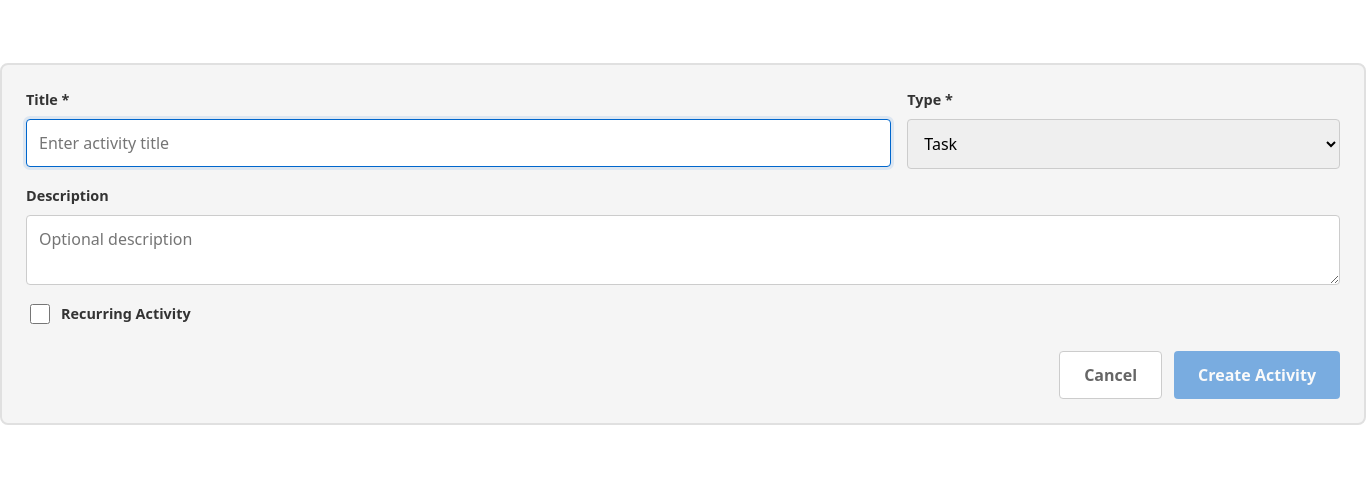
ActivityEditor › shows parent activity dropdown for Epics when Projects exist
The image size is (1366, 489).
Expected: the field labelled "Parent Activity" is not shown
Note: Switch to Epic type — should show parent dropdown with project
Select "Epic" in the dropdown labelled "Type *" at (1124, 144), box [907,119,1340,169]
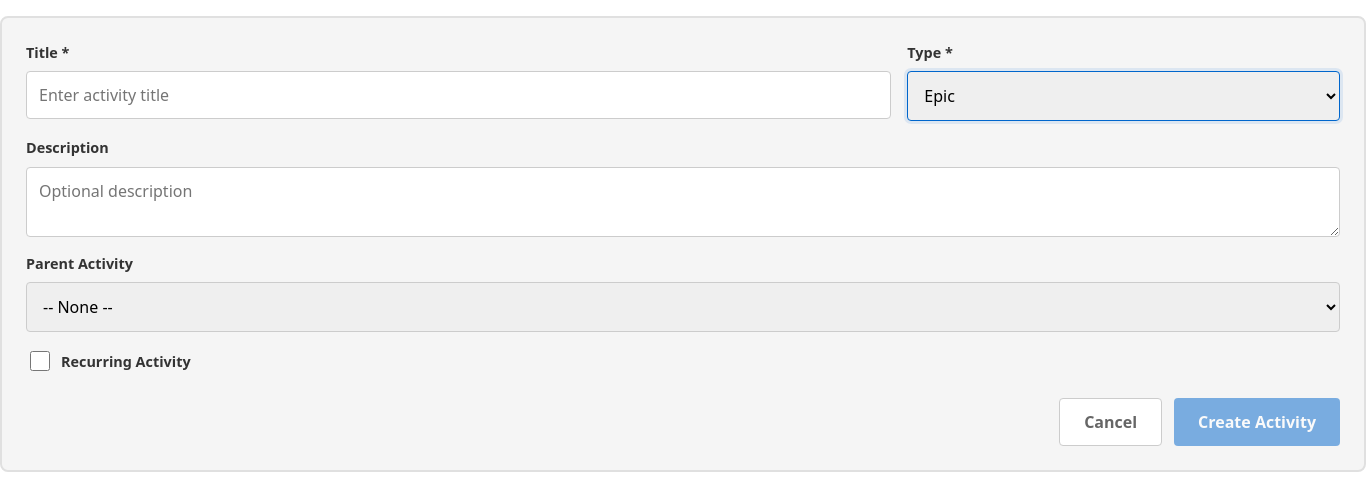
Expected: the dropdown labelled "Parent Activity" is shown, [26,282,1340,332]
